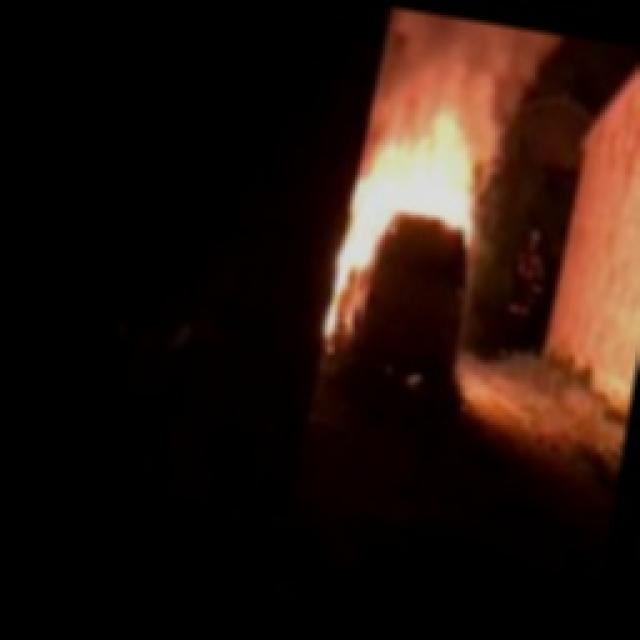fire: (306, 13, 554, 345)
